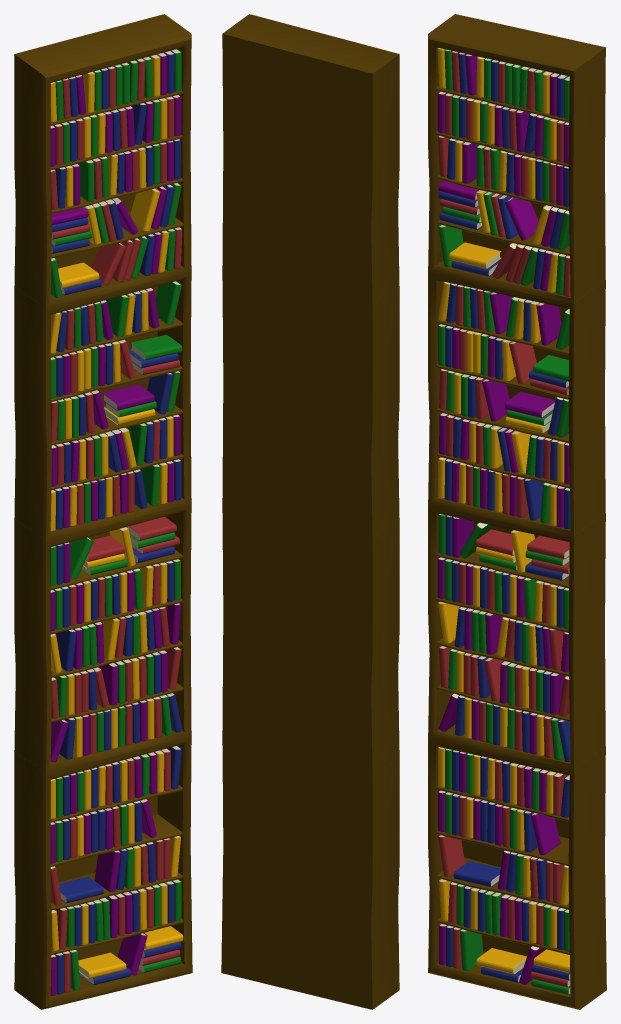
The model's file is bookshelf_a_old.fbx.
3 views of the same model, side by side, from view 1: azimuth 30°, elevation 25°; view 2: azimuth 150°, elevation 25°; view 3: azimuth 330°, elevation 25° (orthographic).
Visible parts, largest first — view 1: books, shelf; view 2: shelf; view 3: books, shelf.
Boxes of the visible parts, x1,y1,x2,y2 form: books: (50,49,183,995); shelf: (14,14,192,1009); shelf: (221,14,399,1009); books: (437,48,570,994); shelf: (428,14,606,1009).
Size of the model in its own units: 94.85 by 563 by 31.41.
